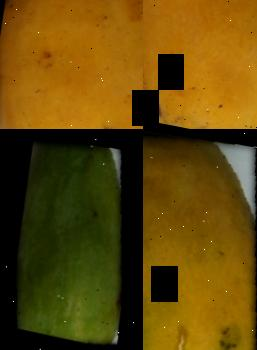PartiallyRipe: (143, 129, 257, 350)
Ripe: (0, 0, 143, 129), (143, 0, 257, 129)
Unripe: (0, 129, 143, 350)
